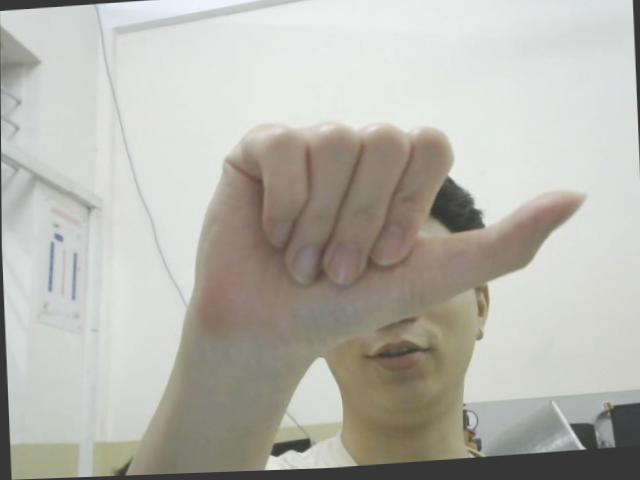A: (184, 105, 592, 348)
